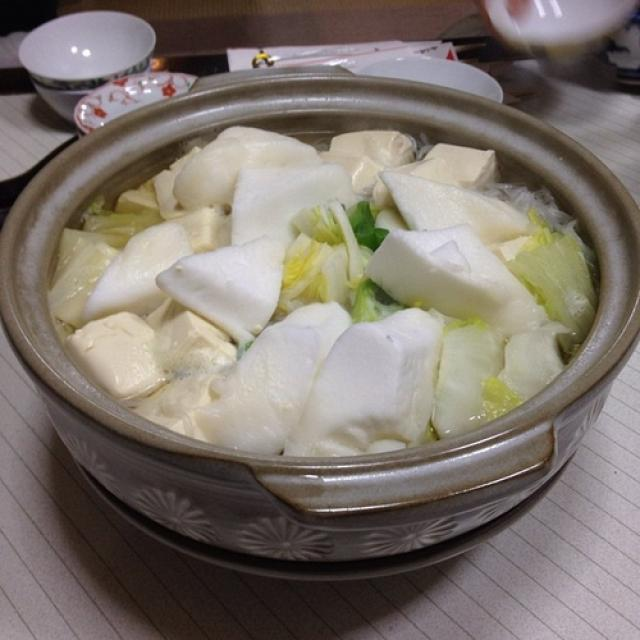豆腐料理: (26, 84, 602, 480)
